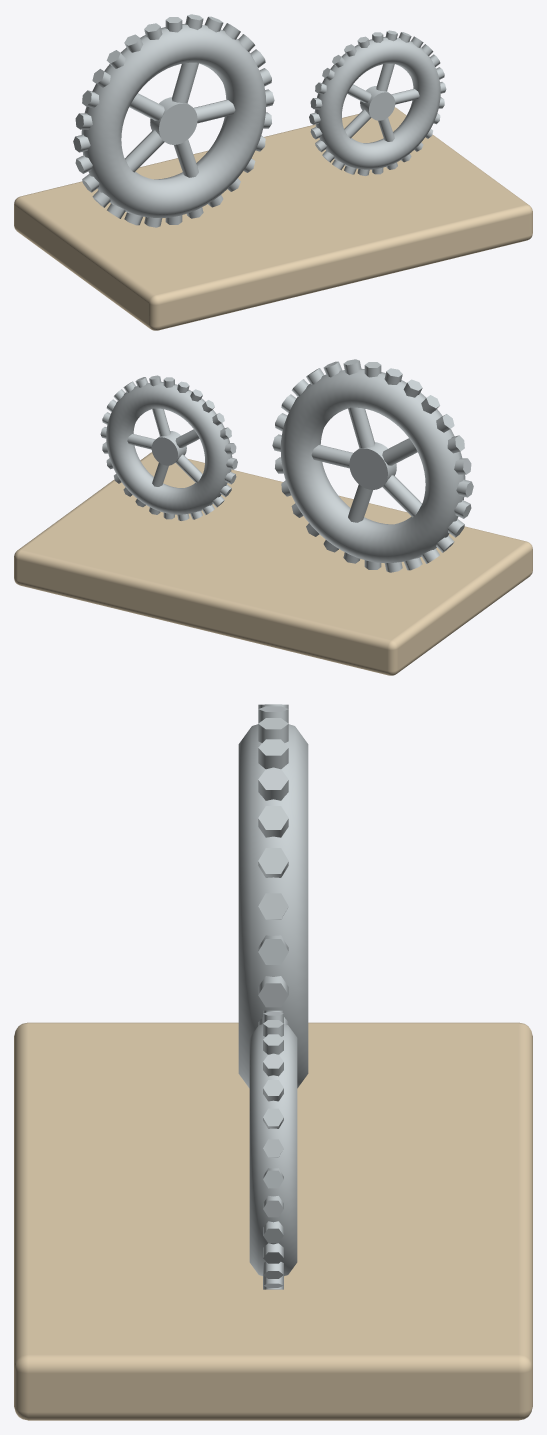
Rendered from bicycle-shop-and-repair-cafe-chainring-set-50864021__32416.glb.
The picture shows the model from 3 angles, top to bottom: view 1: azimuth 30°, elevation 25°; view 2: azimuth 150°, elevation 25°; view 3: azimuth 270°, elevation 25°; orthographic projection. The views are drawn at different scales.
Parts seen in each view (by area): view 1: chainring-set; view 2: chainring-set; view 3: chainring-set.
Part boxes in pixels (box(x1,y1,x2,y2)): chainring-set: box(14, 14, 532, 330); chainring-set: box(14, 359, 532, 675); chainring-set: box(14, 704, 532, 1420).
Size of the model in its own units: 0.253 by 0.15 by 0.16.
